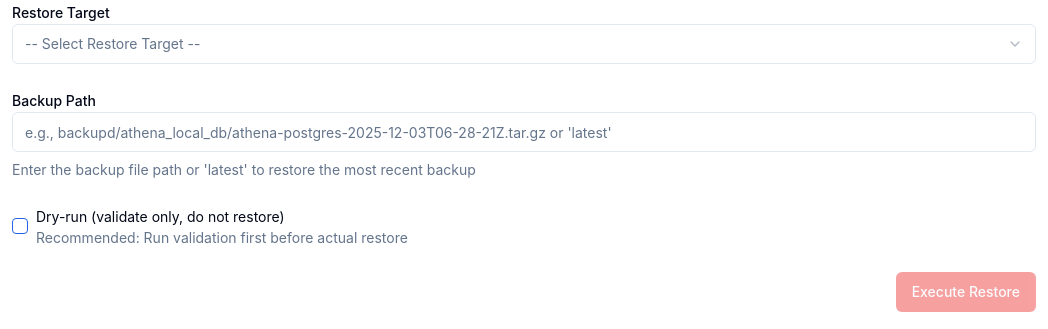
Test: RestoreForm Component › loads and displays backup path suggestions from localStorage
Type "path" into the dropdown labelled "Backup Path" at (524,132), box [12,112,1036,152]
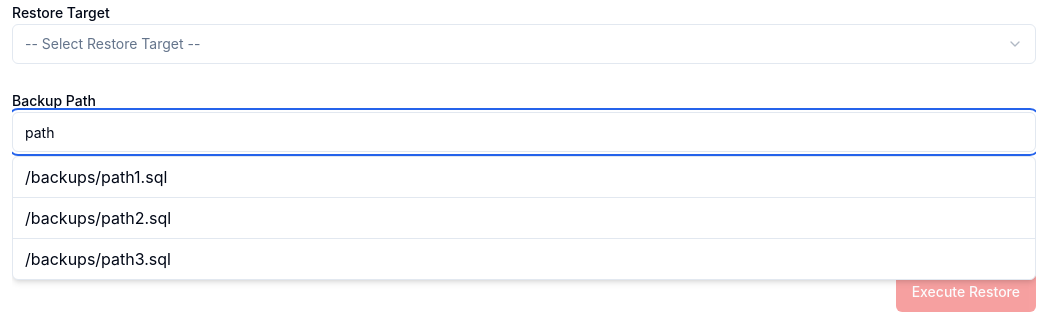
Now the option "/backups/path1.sql" is shown, box [13,157,1035,198]
Now the option "/backups/path2.sql" is shown, box [13,198,1035,239]
Now the option "/backups/path3.sql" is shown, box [25,249,171,269]
